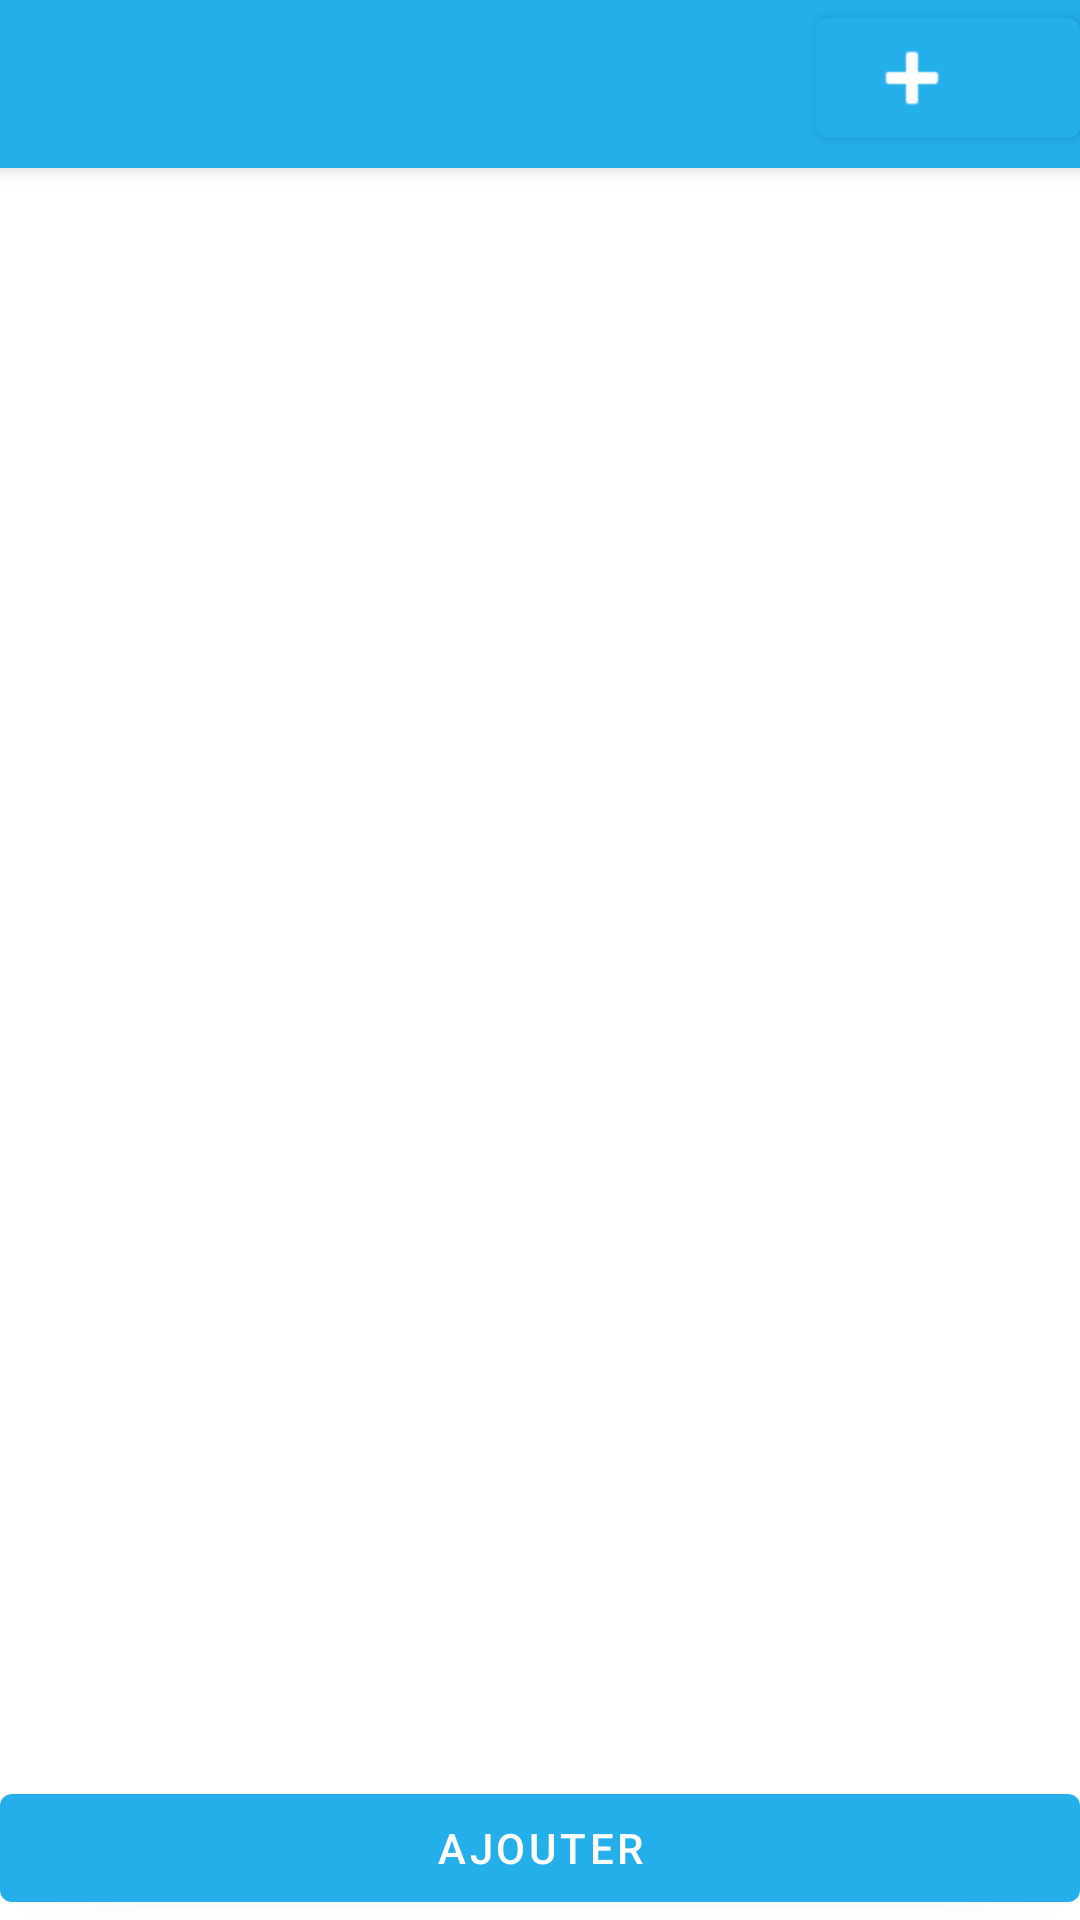

Screen size 1080px x 1920px. Icon name, then its center in pixels as (x,y):
add: (912,78)
